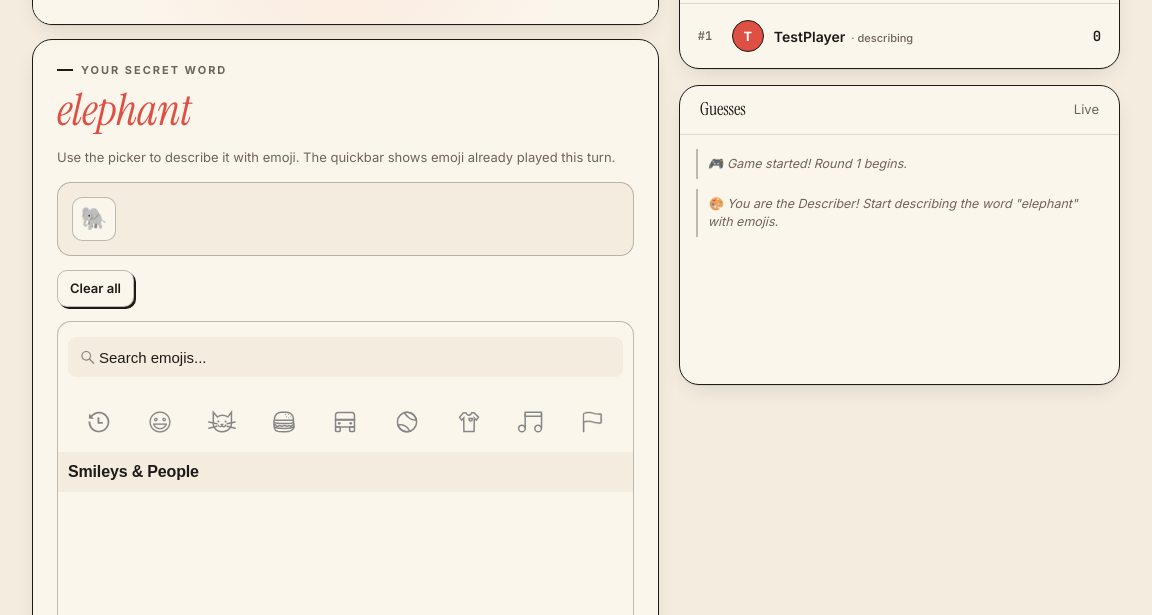
Test: App - gameplay › the describer can clear the emoji they have played
(page scrolled)
Step 1. Click the button "Clear all" → (96, 288), box 57,270 -> 134,307
(page scrolled)
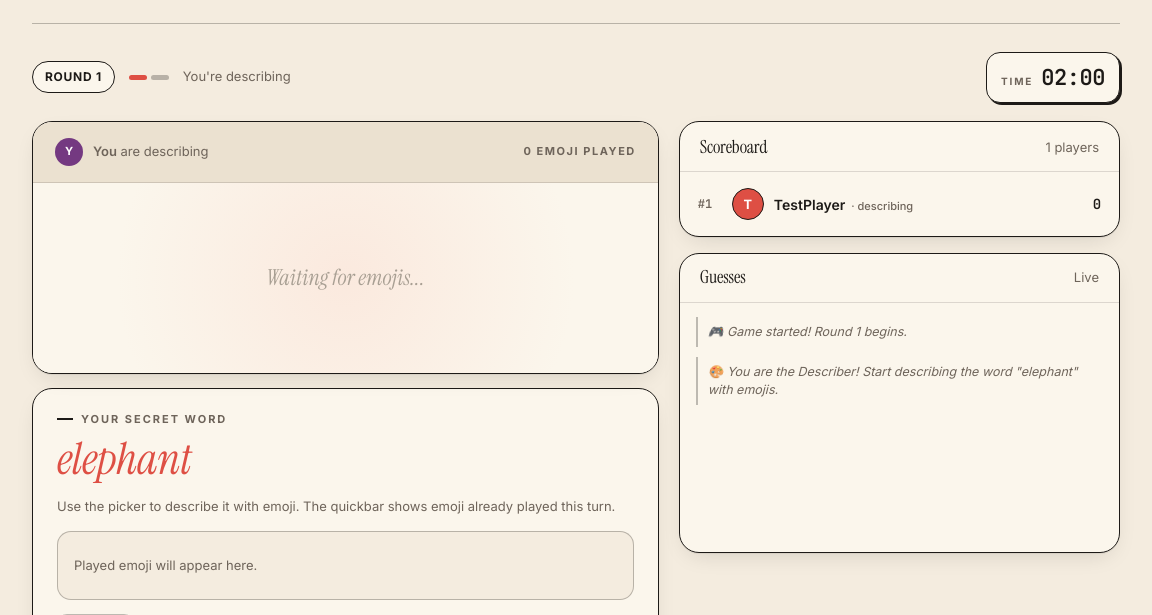
Result: the text "Waiting for emojis..." is shown at 266,261 -> 424,294
